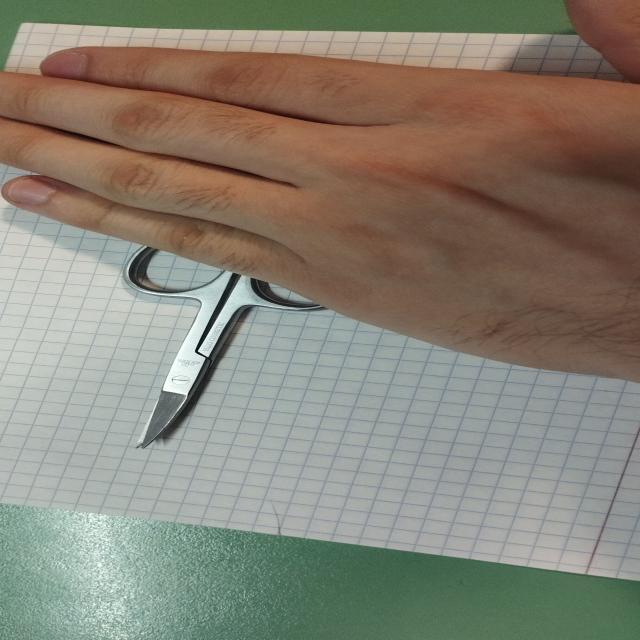tesoura: (116, 212, 351, 455)
